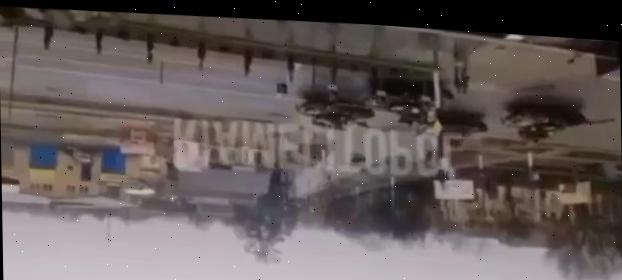tank: (354, 68, 458, 130), (499, 99, 616, 148), (290, 85, 374, 134)
